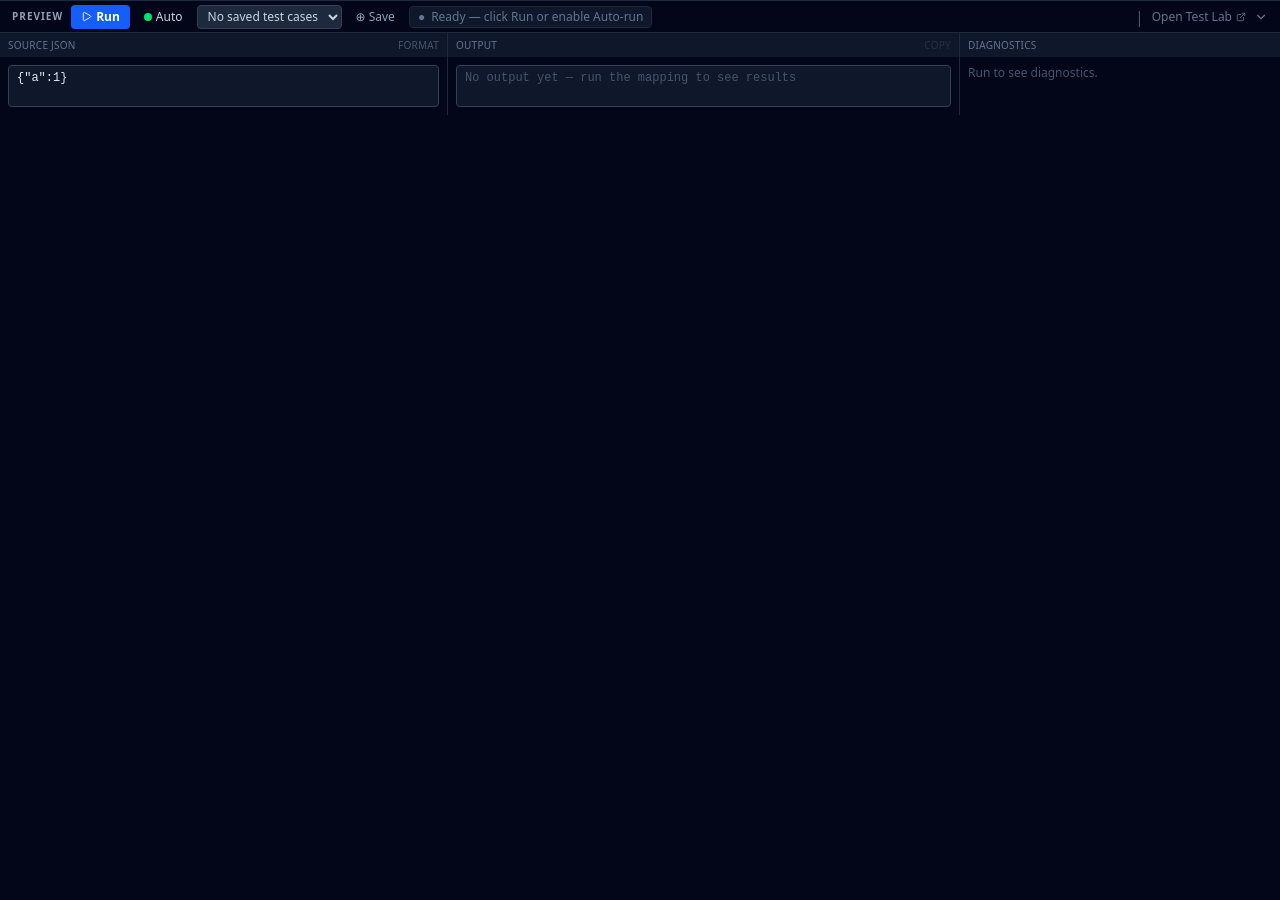
Test case: InlinePreviewStrip › modal closes after successful save
The width and height of the screenshot is (1280, 900).
Step 1. Click the button with test id "strip-save-testcase-button" → (375, 16), box [350,6,401,26]
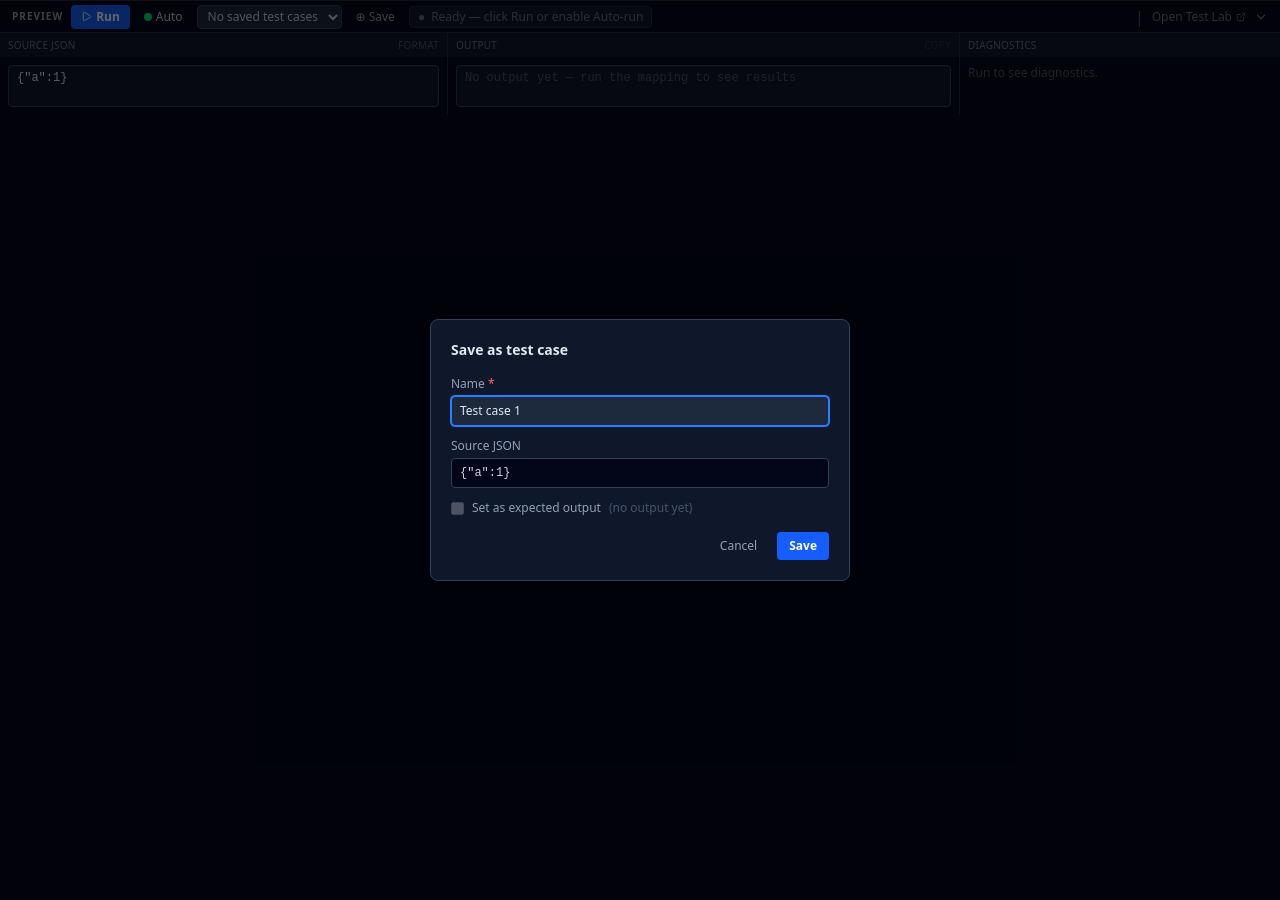
Step 2. Click the button with test id "save-testcase-confirm" → (803, 546), box [777,532,829,560]
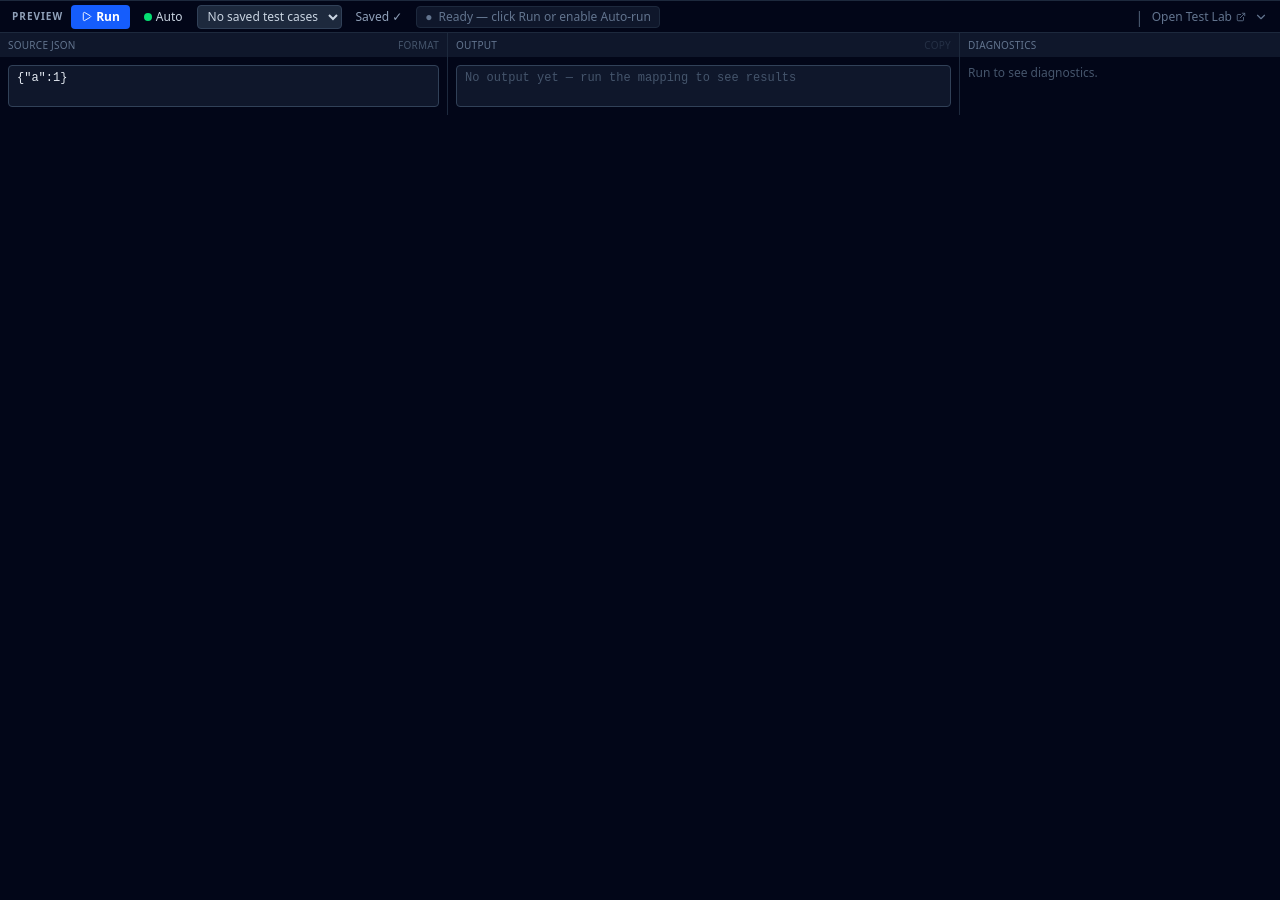
Result: the element with test id "save-testcase-modal" is gone
